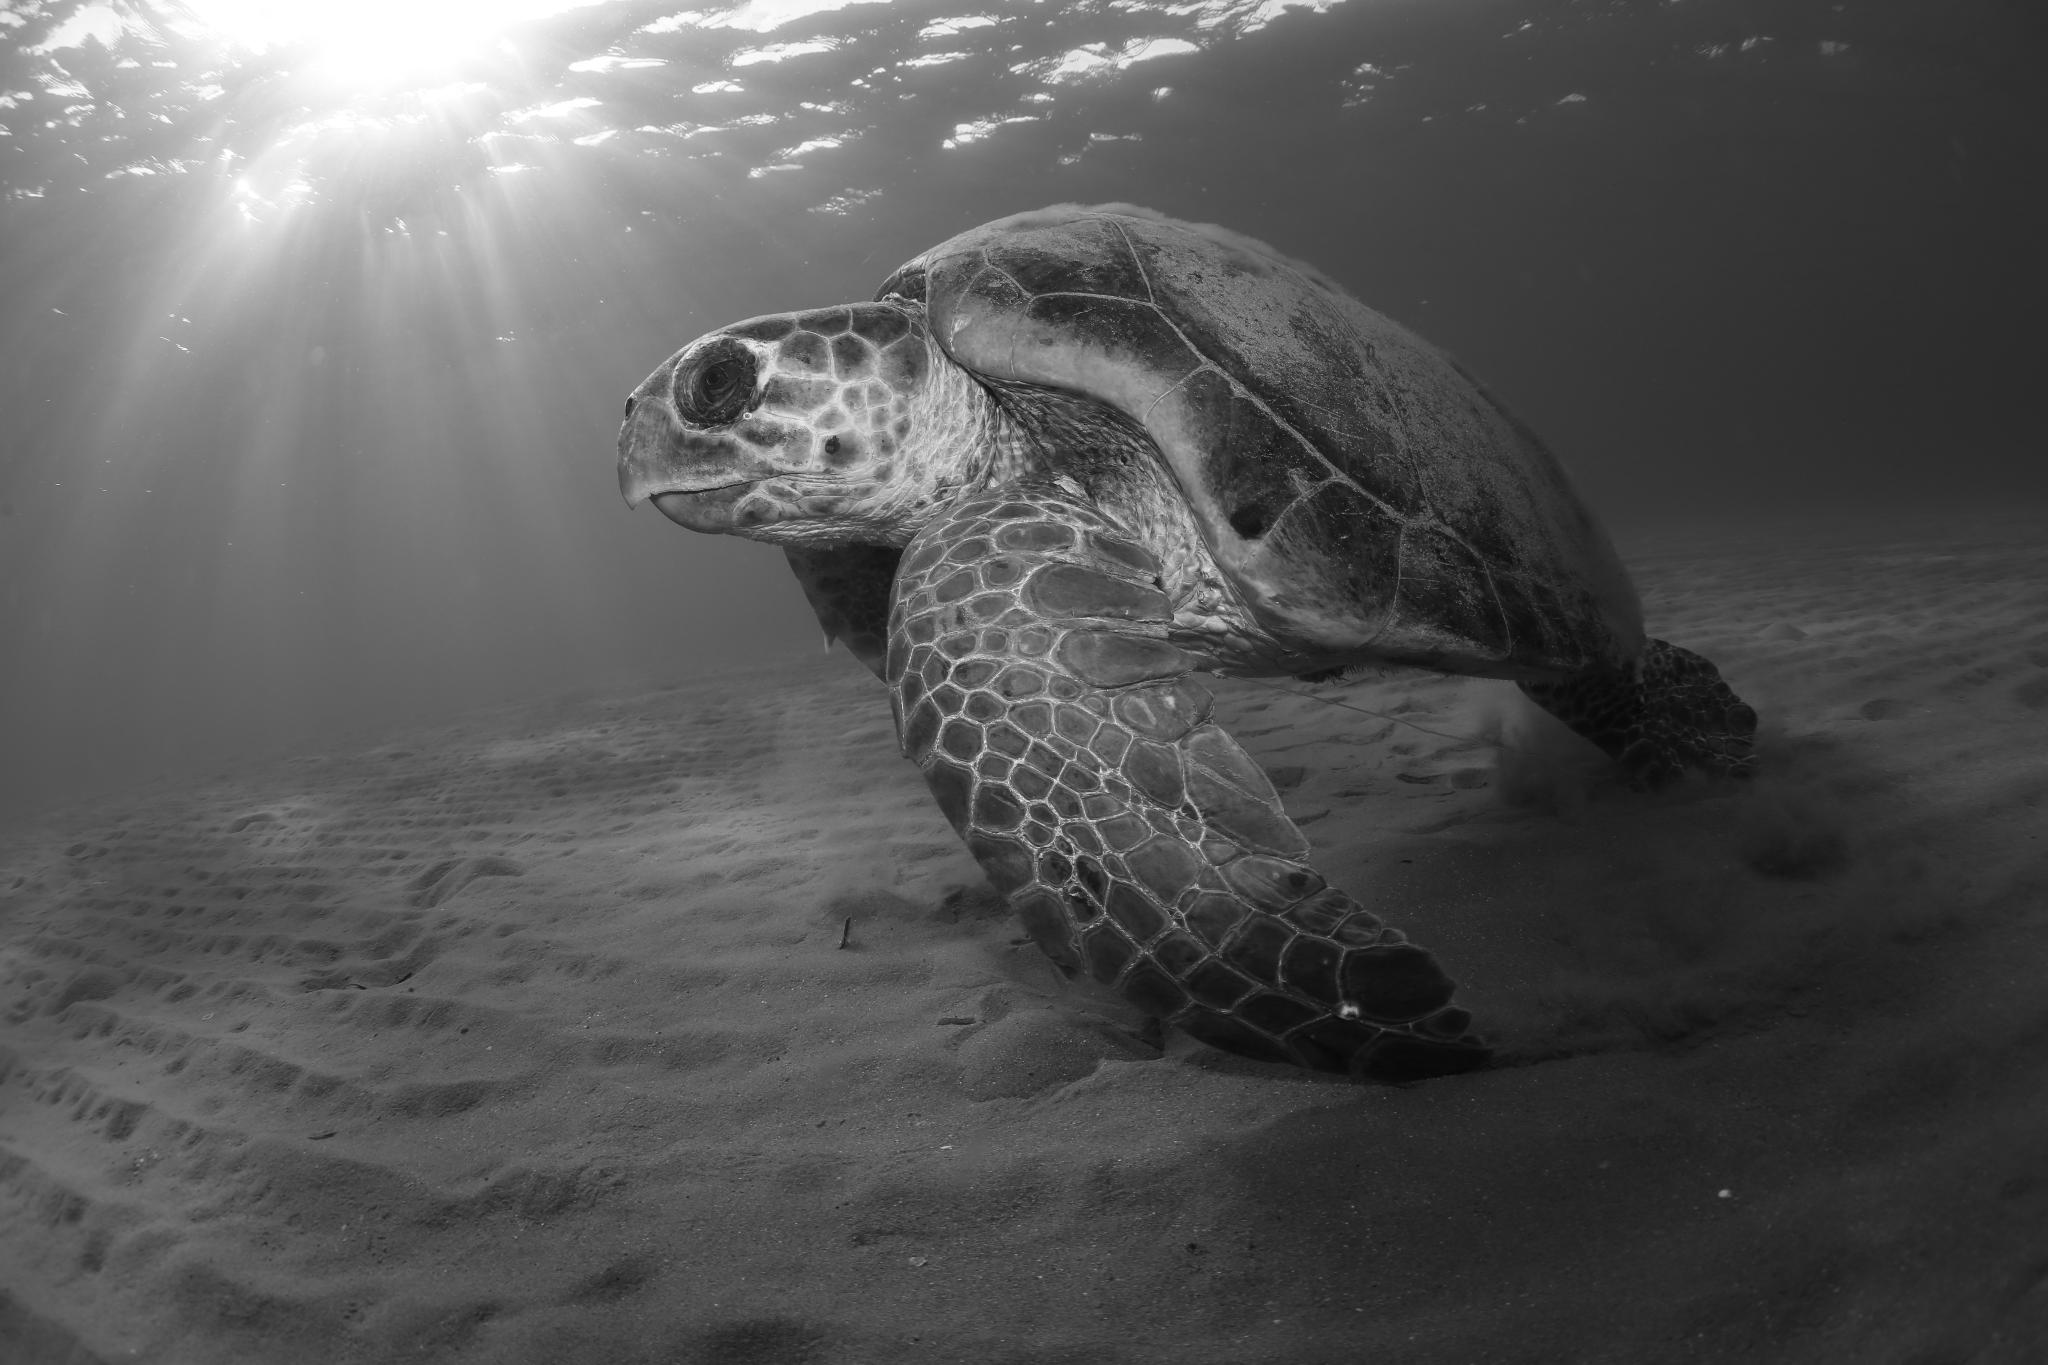Head: (618, 295, 950, 544)
